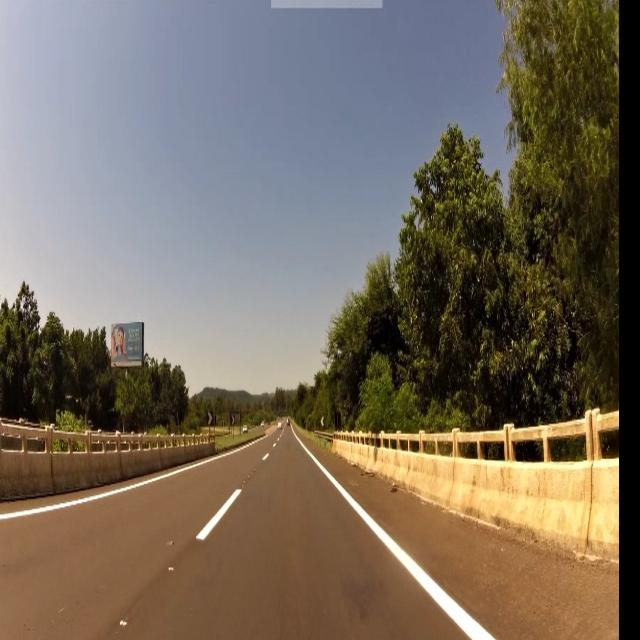Del: (230, 414, 235, 424), (208, 413, 212, 424), (321, 416, 325, 425)
